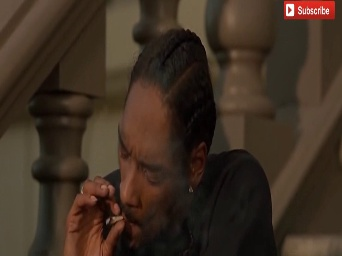smoke: (103, 216, 126, 224)
